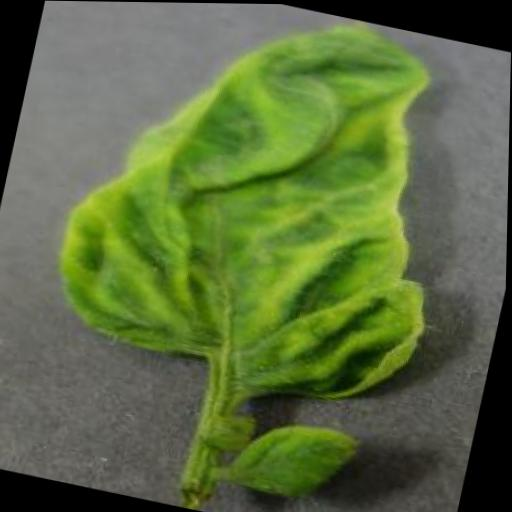Yellow Leaf Curl Virus: (39, 1, 484, 421), (233, 408, 369, 510)
